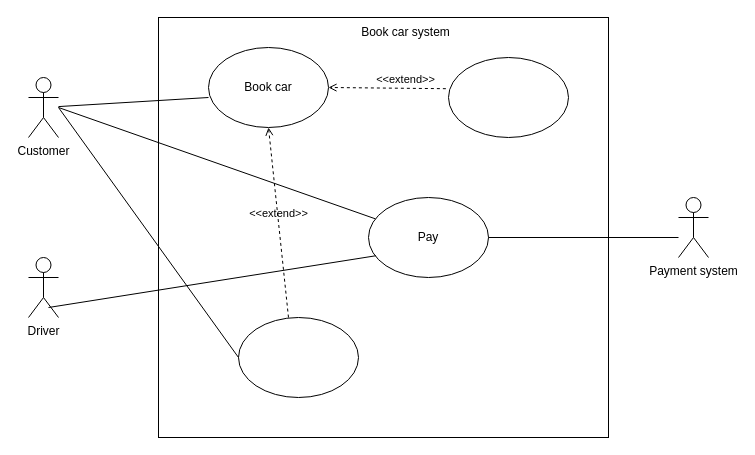
This 755x455 diagram has some shape labels left out. Each missing label, with the box of its shape:
Get promotions: (238, 316, 358, 398)
view driver's location: (448, 56, 568, 138)
